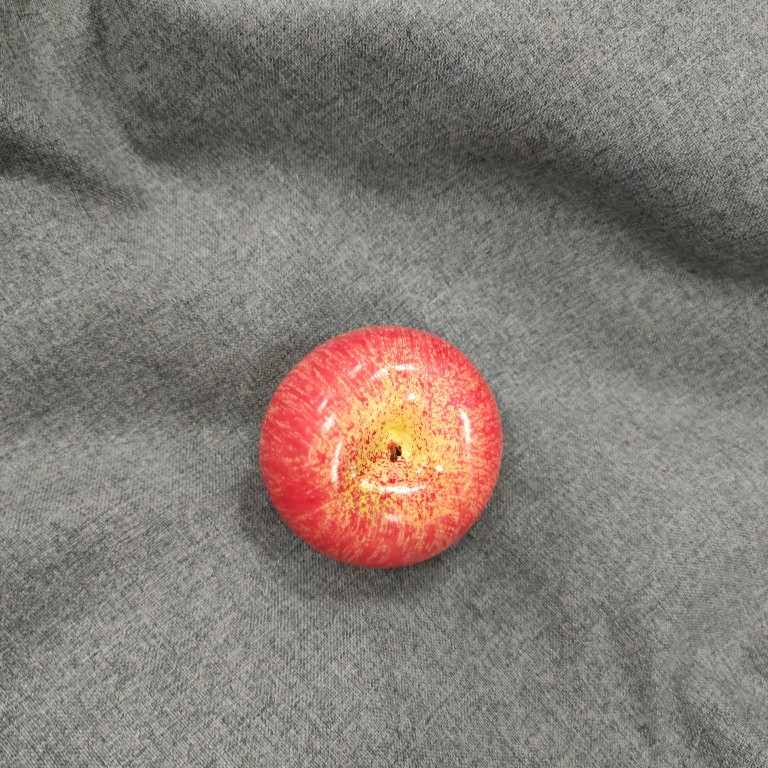fruit_apple: (253, 321, 508, 572)
